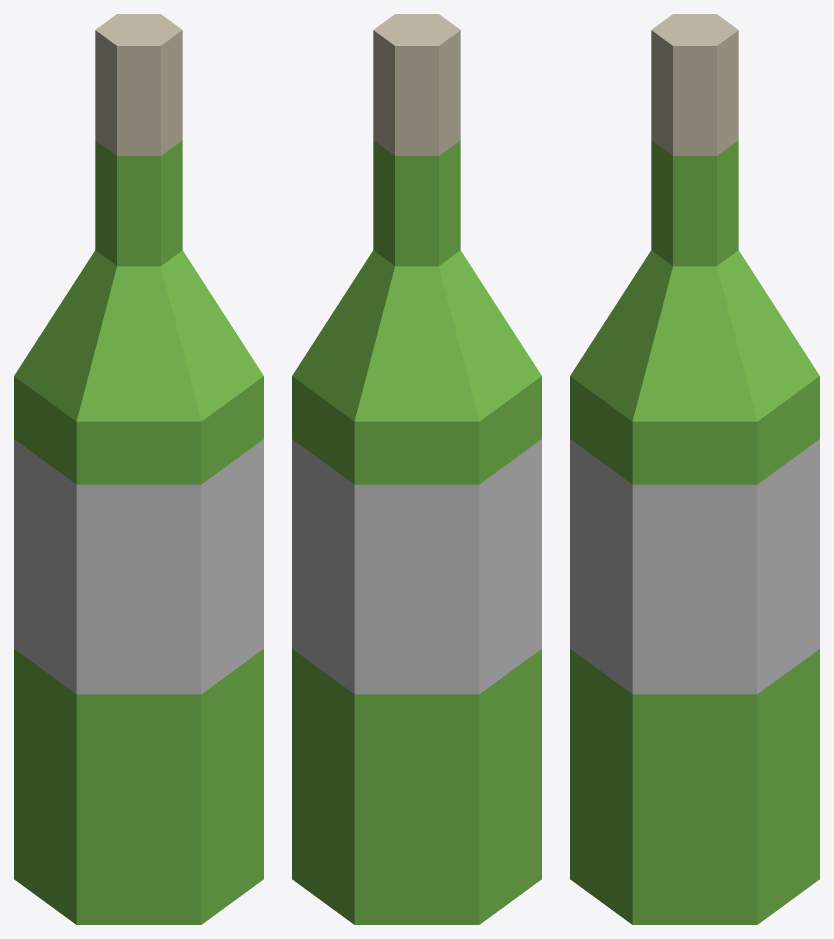
Rendered from BottleWine3.fbx.
The picture shows the model from 3 angles, left to right: view 1: azimuth 30°, elevation 25°; view 2: azimuth 150°, elevation 25°; view 3: azimuth 270°, elevation 25°; orthographic projection.
Parts seen in each view (by area): view 1: Cylinder; view 2: Cylinder; view 3: Cylinder.
Boxes of the visible parts, <box> form: Cylinder: <box>14,14,263,924</box>; Cylinder: <box>292,14,541,924</box>; Cylinder: <box>570,14,819,924</box>.
Bounding box in the file's own units: 0.1715 × 0.7425 × 0.198.
